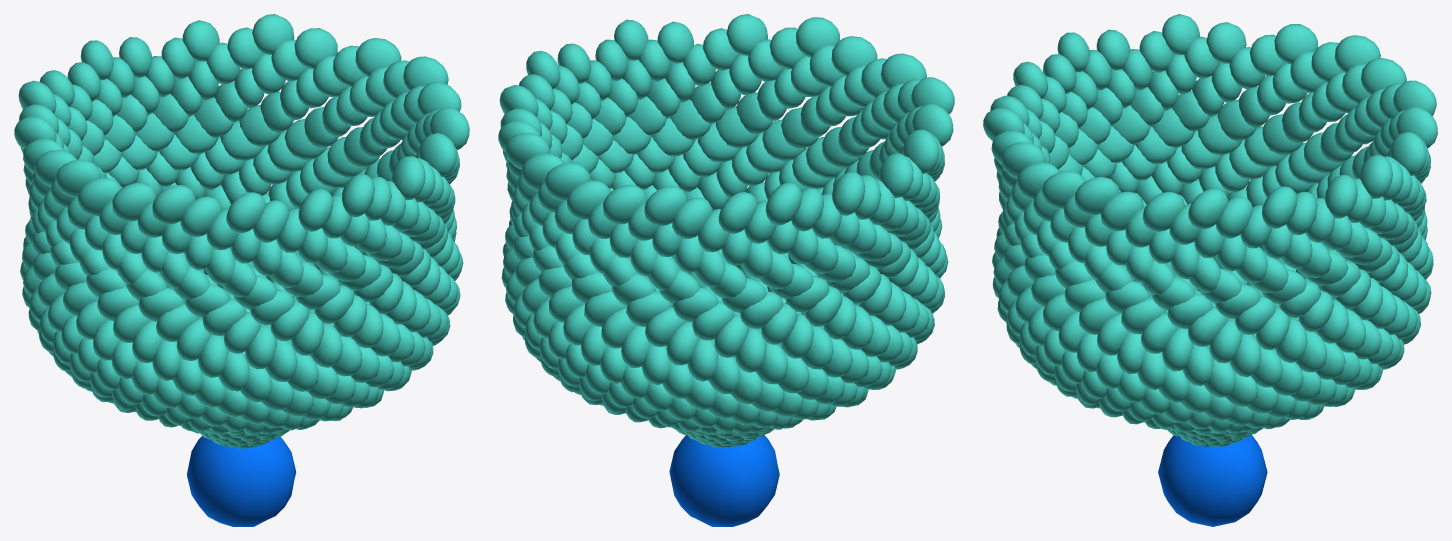
Rendered from icetree.glb.
3 views of the same model, side by side, from view 1: azimuth 30°, elevation 25°; view 2: azimuth 150°, elevation 25°; view 3: azimuth 270°, elevation 25° (orthographic).
Parts seen in each view (by area): view 1: icetree; view 2: icetree; view 3: icetree.
Part boxes in pixels (left/top/right/bottom): icetree: left=14, top=14, right=469, bottom=526; icetree: left=498, top=14, right=954, bottom=526; icetree: left=983, top=14, right=1437, bottom=526.
Size of the model in its own units: 1.92 by 1.95 by 1.91.
